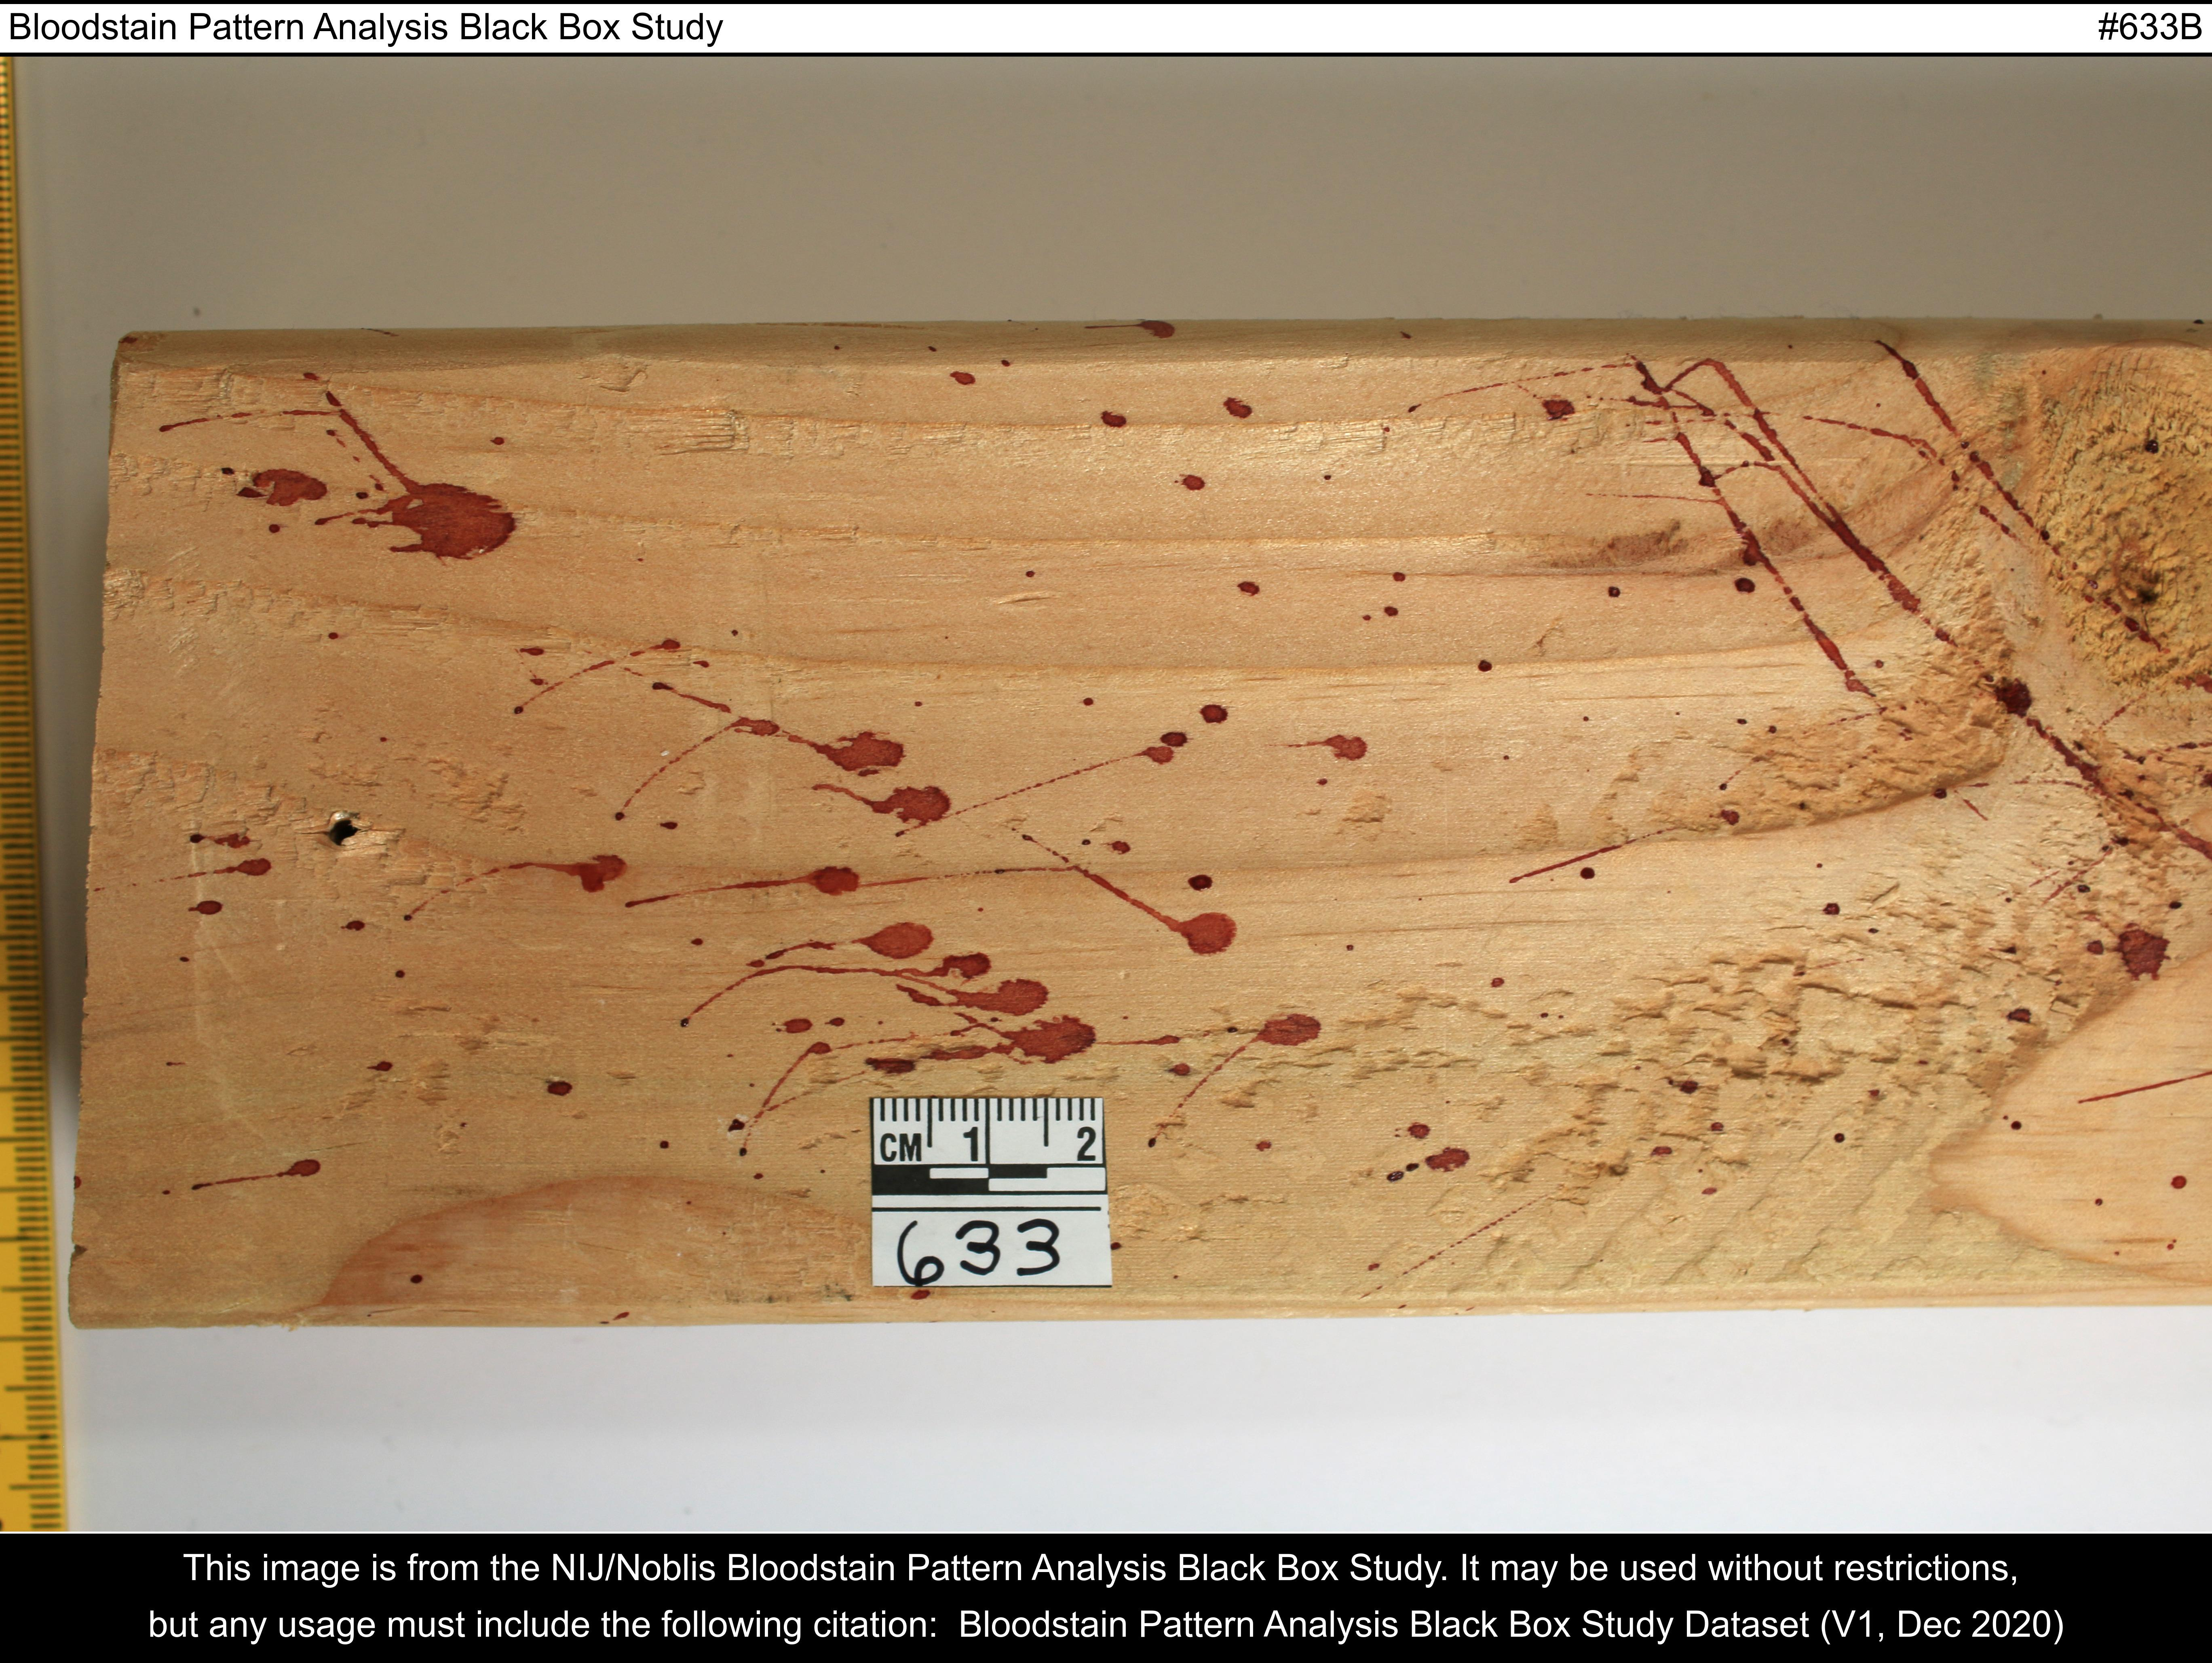Passive: (182, 384, 1398, 1092), (1521, 360, 2210, 1001)
